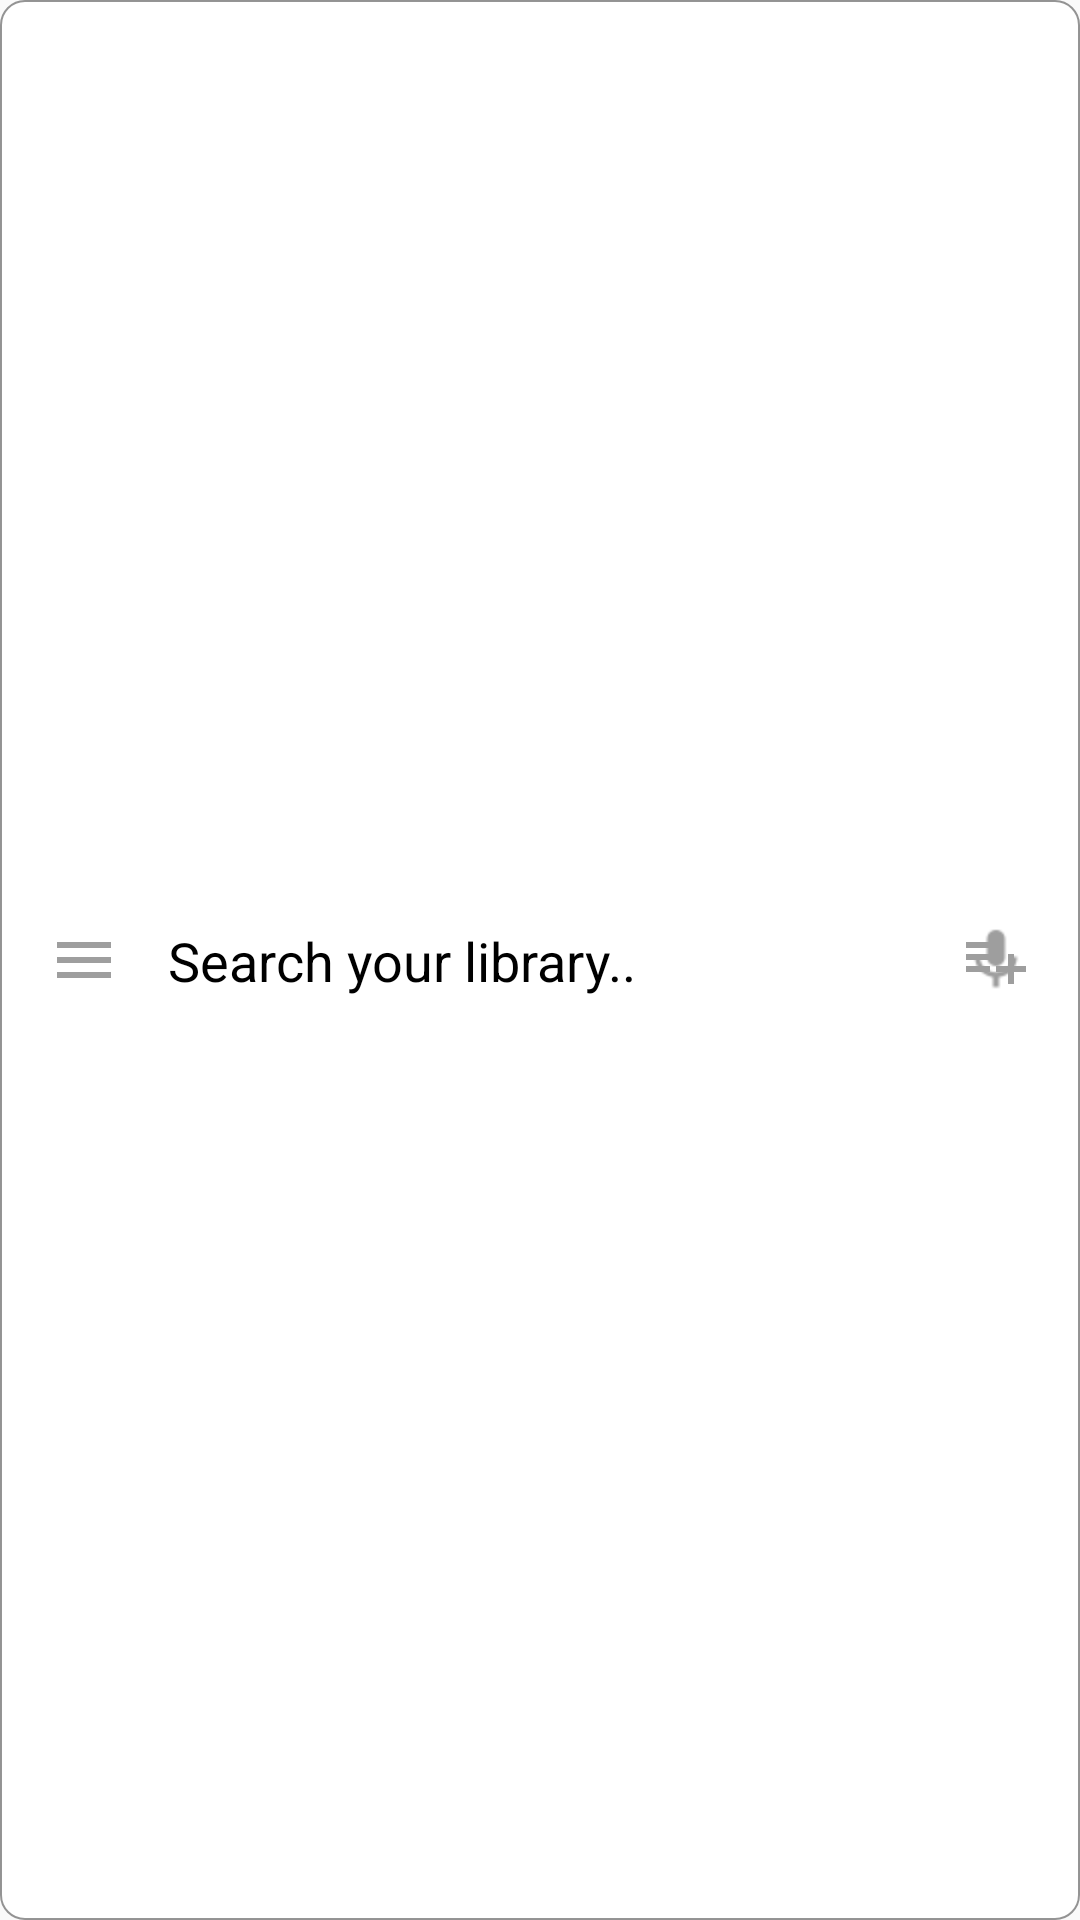

Where icons sit on this 1080px x 1920px app screen, as (x1, y1, x2, y2):
Menu Button: (57, 942, 111, 978)
